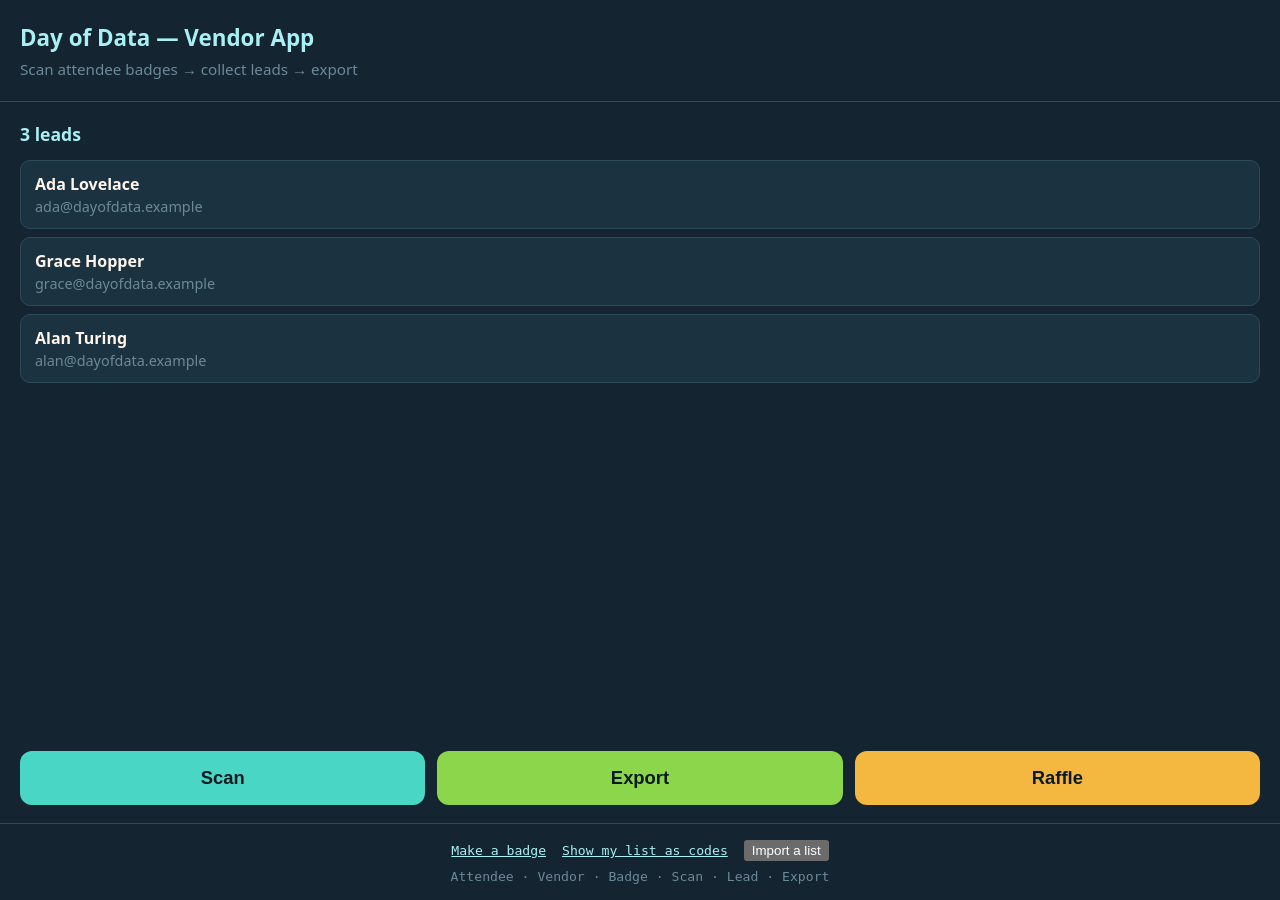
Scenario: Raffle flow › redraws an independent winner when Draw again is tapped (next random value)
This screenshot has width=1280, height=900.
Click the button "Raffle": (1057, 778) x1=855 y1=751 x2=1260 y2=805
Wait 3000 ms
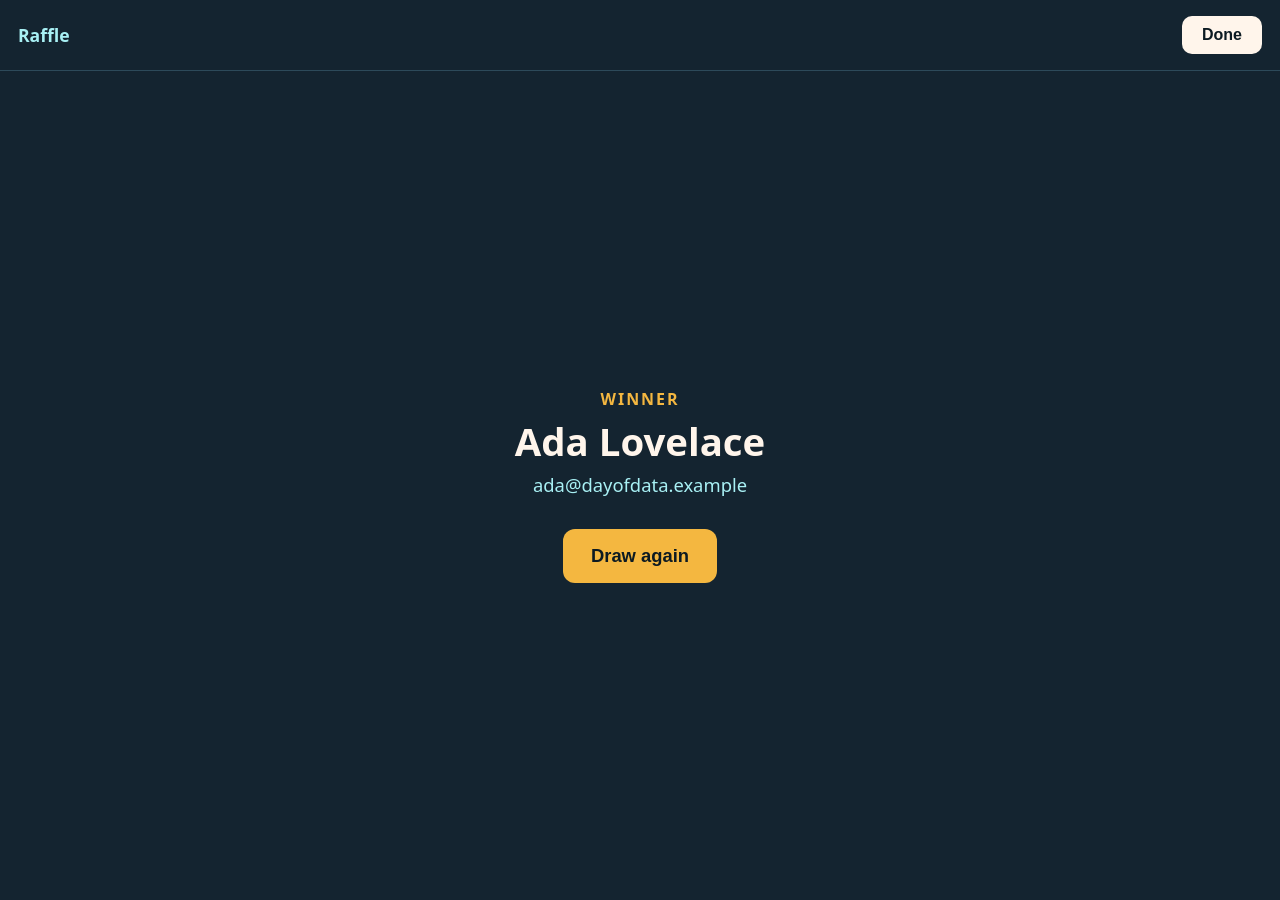
Expected: the text with test id "raffle-winner-name" reads "Ada Lovelace", x1=515 y1=415 x2=765 y2=467
Click the button "Draw again": (640, 556) x1=563 y1=529 x2=717 y2=583
Wait 3000 ms
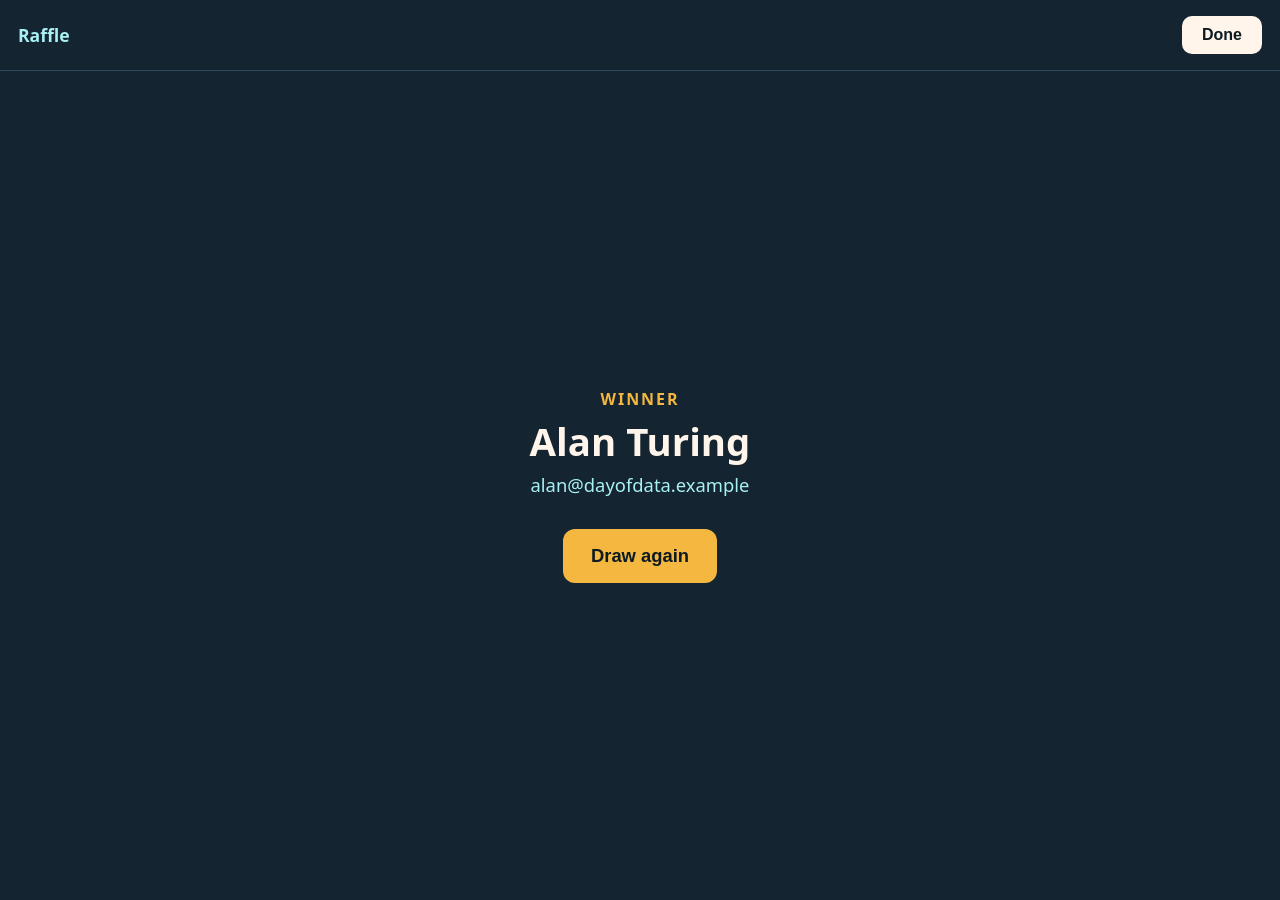
Expected: the text with test id "raffle-winner-name" reads "Alan Turing", x1=530 y1=415 x2=750 y2=467
